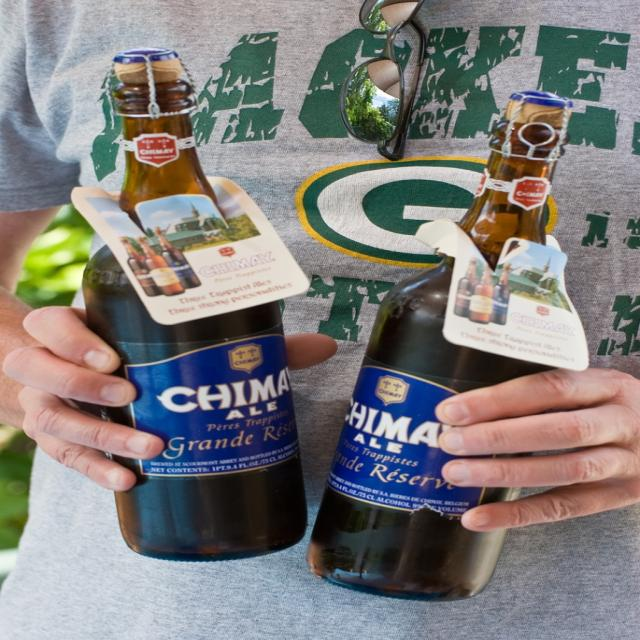chimay: (121, 334, 306, 480), (320, 364, 487, 521)
